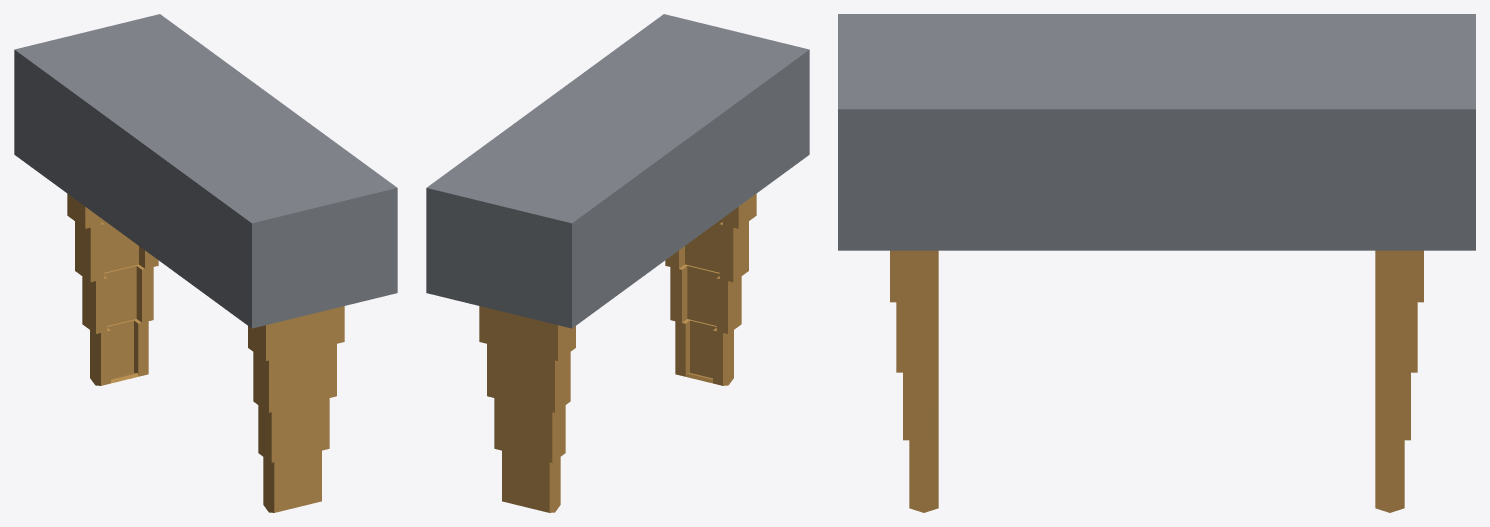
Rendered from gripper.glb.
3 views of the same model, side by side, from view 1: azimuth 30°, elevation 25°; view 2: azimuth 150°, elevation 25°; view 3: azimuth 270°, elevation 25° (orthographic). The views are drawn at different scales.
Visible parts, largest first — view 1: palm, finger_right, finger_left; view 2: palm, finger_left, finger_right; view 3: palm, finger_left, finger_right.
Boxes of the visible parts, <box> form: palm: <box>14,14,397,328</box>; finger_right: <box>248,306,344,512</box>; finger_left: <box>67,194,158,385</box>; palm: <box>426,14,809,328</box>; finger_left: <box>479,306,575,512</box>; finger_right: <box>665,194,756,385</box>; palm: <box>838,14,1475,250</box>; finger_left: <box>1375,250,1423,512</box>; finger_right: <box>890,250,938,512</box>.
Bounding box in the file's own units: 0.0435 × 0.0925 × 0.1228.
